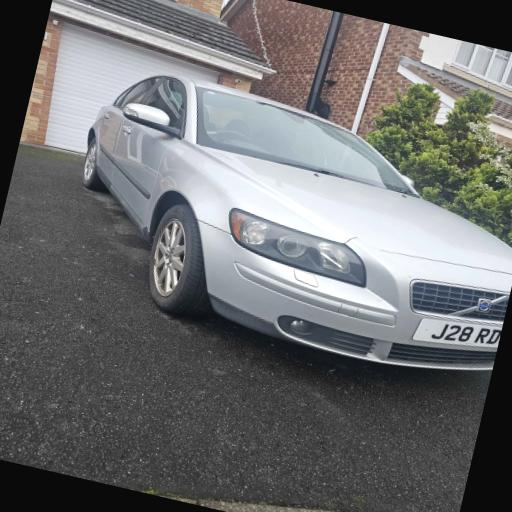numberplates: (414, 319, 501, 347)
